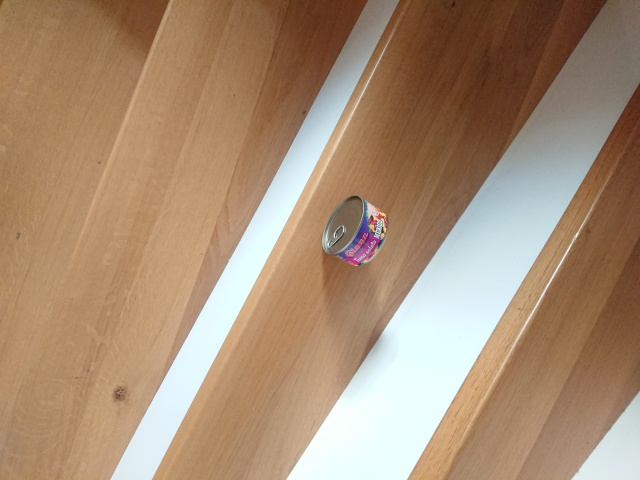Giana Tuna Salad Mexico 185g: (320, 193, 391, 269)
